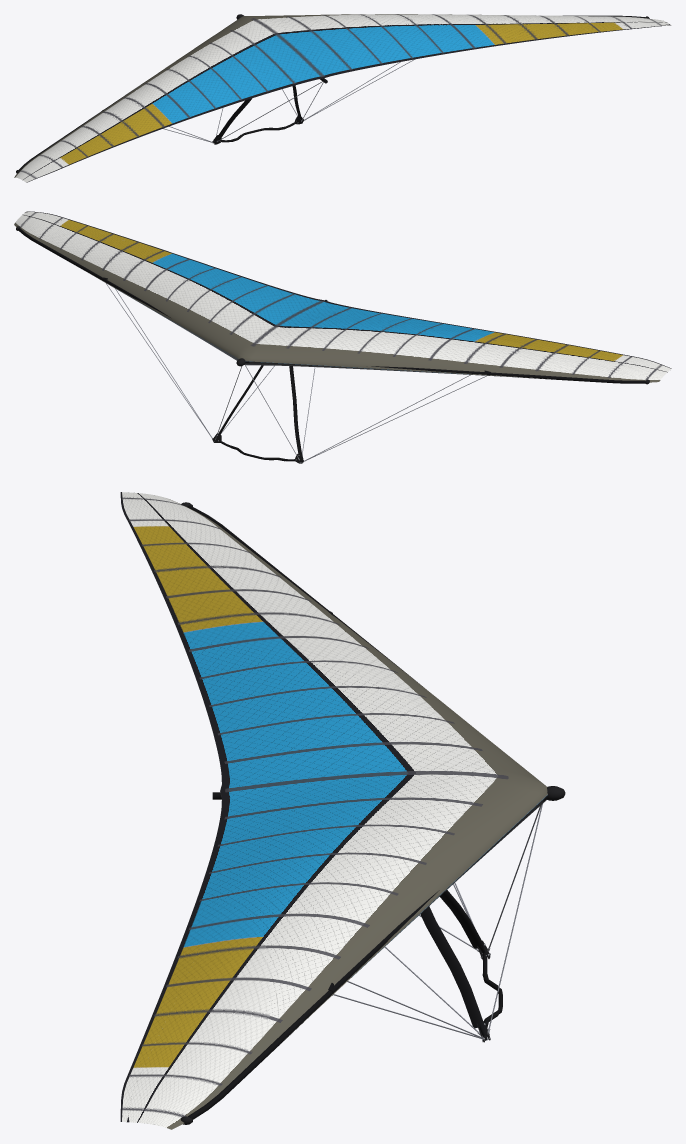
File: glider_ww_talon.glb
3 views of the same model, one above another, from view 1: azimuth 30°, elevation 25°; view 2: azimuth 150°, elevation 25°; view 3: azimuth 270°, elevation 25° (orthographic). The views are drawn at different scales.
Parts seen in each view (by area): view 1: Sail, ControlFrame, Frame; view 2: Sail, ControlFrame, Frame; view 3: Sail, ControlFrame, Frame.
Part boxes in pixels (left/top/right/bottom): Sail: left=14, top=14, right=671, bottom=182; ControlFrame: left=163, top=59, right=414, bottom=144; Frame: left=16, top=14, right=649, bottom=173; Sail: left=14, top=211, right=671, bottom=382; ControlFrame: left=106, top=283, right=487, bottom=463; Frame: left=16, top=226, right=649, bottom=384; Sail: left=120, top=492, right=547, bottom=1129; ControlFrame: left=333, top=804, right=542, bottom=1042; Frame: left=180, top=502, right=565, bottom=1124.
Bounding box in the file's own units: 10.34 × 1.79 × 3.08.
8 materials, 1 textured.
